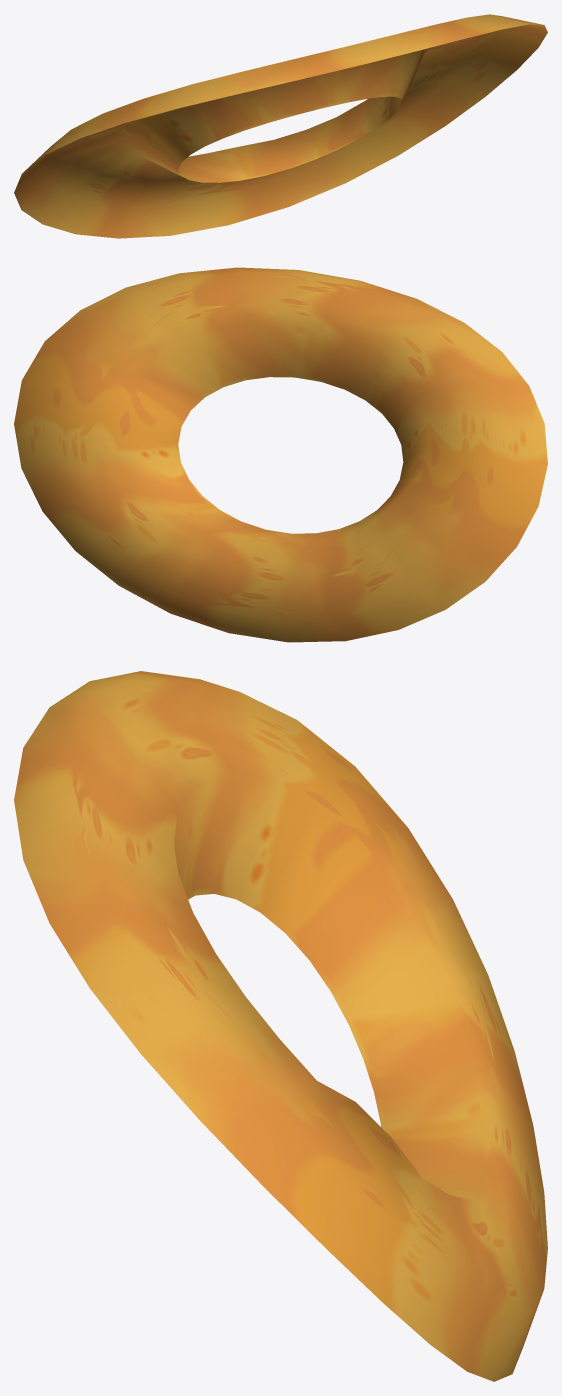
Rendered from Chapter1Model1EffectQuicksand03.FBX.
The picture shows the model from 3 angles, top to bottom: view 1: azimuth 30°, elevation 25°; view 2: azimuth 150°, elevation 25°; view 3: azimuth 270°, elevation 25°; orthographic projection. The views are drawn at different scales.
Visible parts, largest first — view 1: Chapter1Model1EffectQuicksand03; view 2: Chapter1Model1EffectQuicksand03; view 3: Chapter1Model1EffectQuicksand03.
Part boxes in pixels (box(x1,y1,x2,y2)): Chapter1Model1EffectQuicksand03: box(14, 14, 547, 238); Chapter1Model1EffectQuicksand03: box(14, 267, 547, 642); Chapter1Model1EffectQuicksand03: box(14, 671, 547, 1381).
Size of the model in its own units: 717 by 352 by 329.
